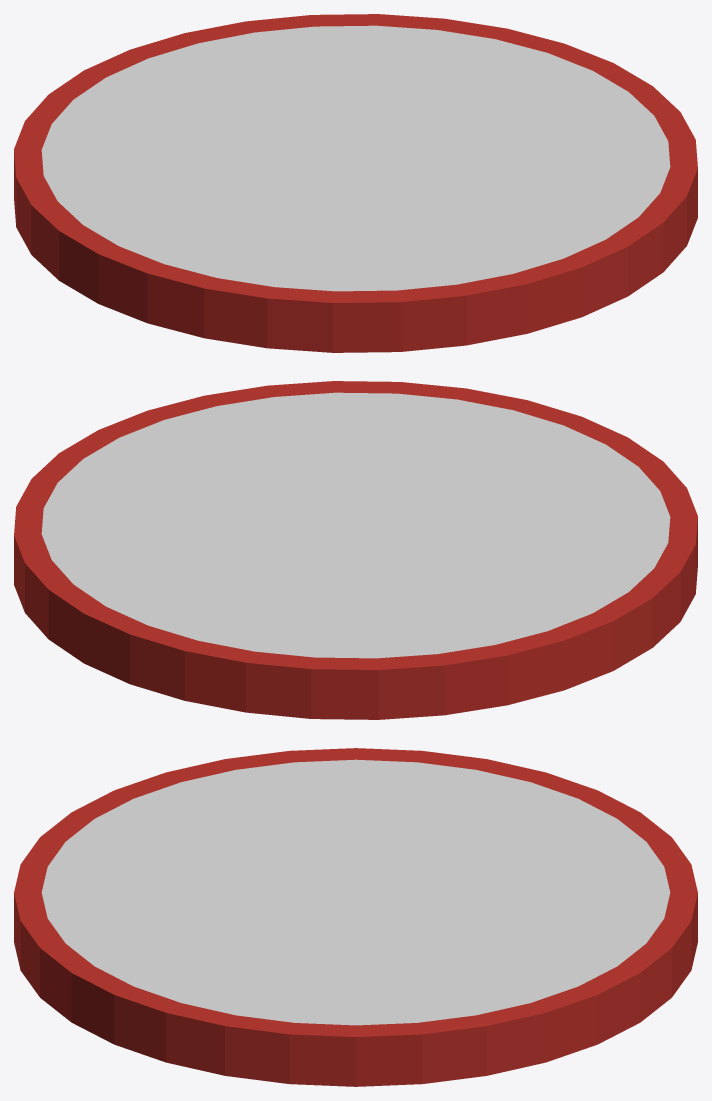
File: upgrade_field.fbx
The picture shows the model from 3 angles, top to bottom: view 1: azimuth 30°, elevation 25°; view 2: azimuth 150°, elevation 25°; view 3: azimuth 270°, elevation 25°; orthographic projection.
Visible parts, largest first — view 1: Cylinder; view 2: Cylinder; view 3: Cylinder.
Boxes of the visible parts, box(x1,y1,x2,y2) form: Cylinder: box(14, 14, 697, 352); Cylinder: box(14, 381, 697, 719); Cylinder: box(14, 748, 697, 1086).
Size of the model in its own units: 421 by 33.78 by 421.
